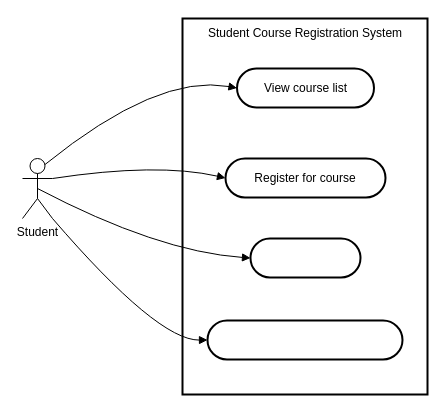
Some shapes in this 446 by 412 pixel diagram are drawn without their labels. Here are the shapes that lost their labels. From the top down, the centre of each, then its label:
At point 305,257: "Drop course".
At point 304,339: "View registered courses".
